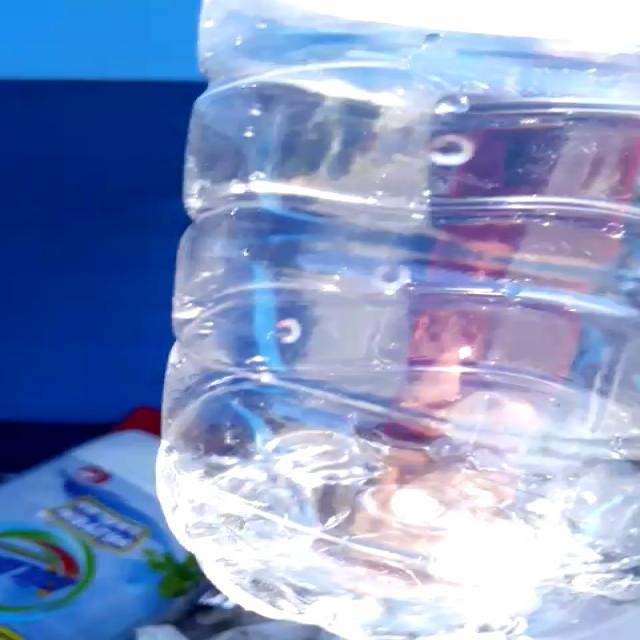plastic: (157, 0, 640, 640)
